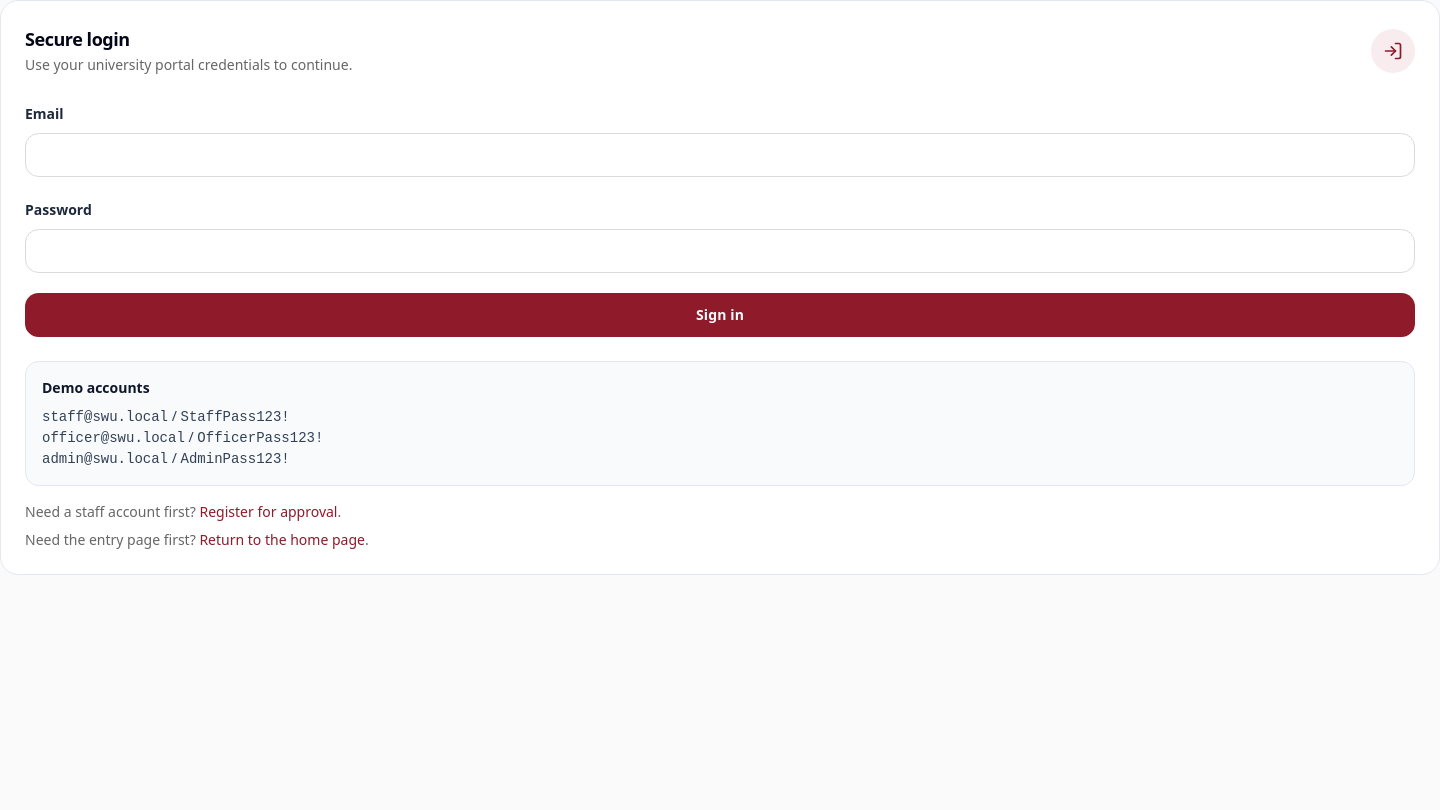
Test case: LoginForm › shows a form-level error when credentials are rejected
In the field labelled "Email": point(720, 155) [25, 133, 1415, 177], type "staff@swu.local"
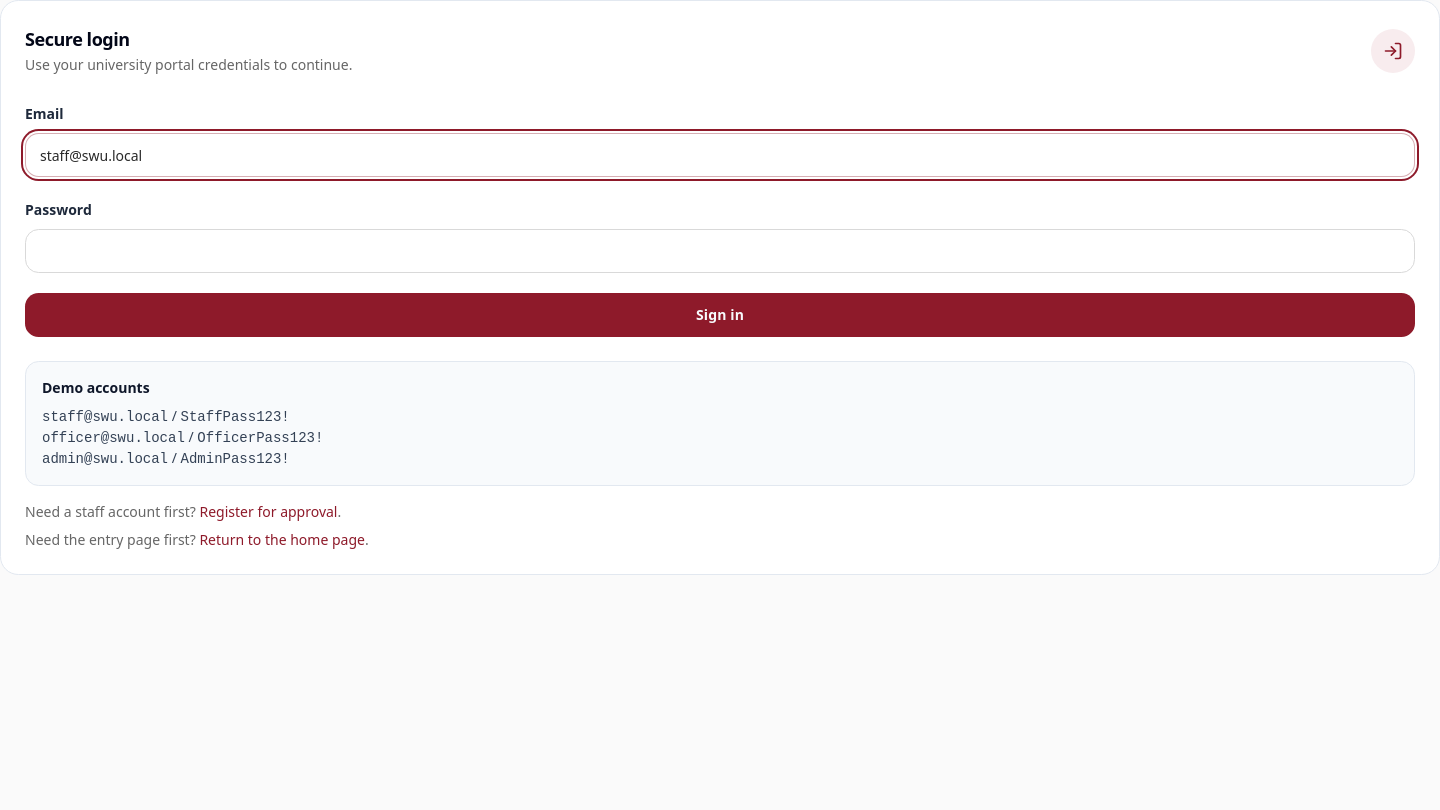
In the password field labelled "Password": point(720, 251) [25, 229, 1415, 273], type "StaffPass123!"
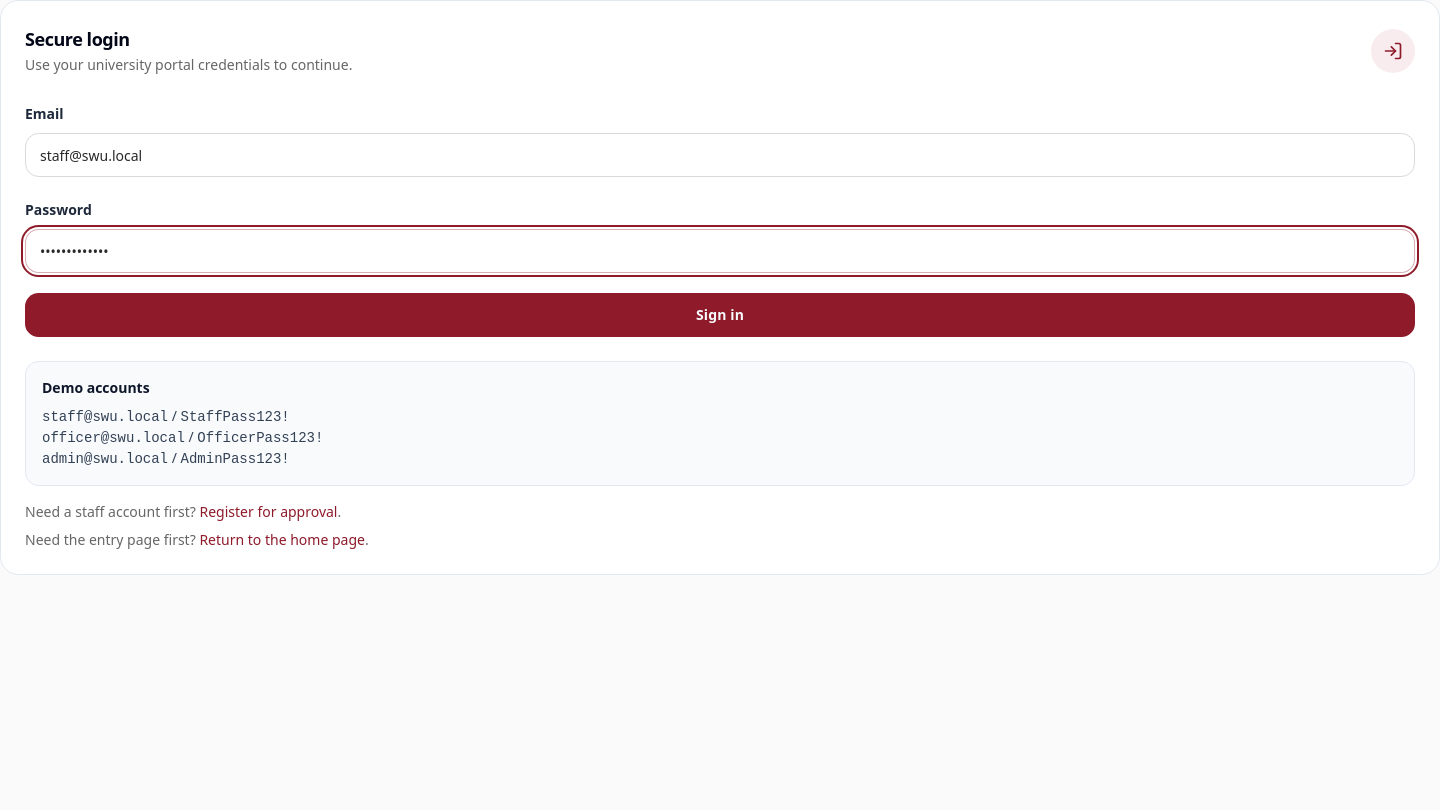
Click the button "Sign in": point(720, 315) [25, 293, 1415, 337]
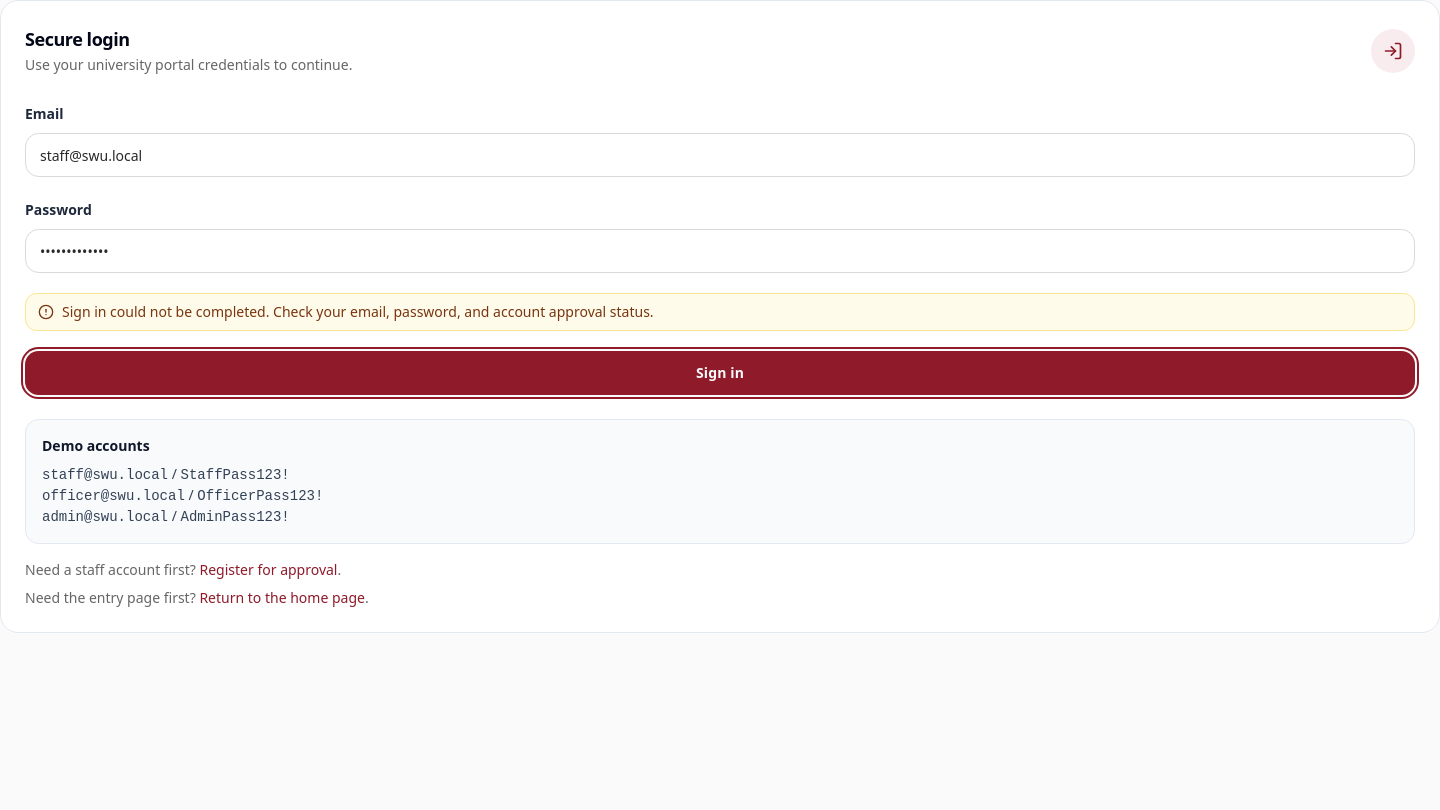
Check: the text "sign in could not be completed. check your email, password, and account approval status." is shown, box [62, 302, 654, 321]
